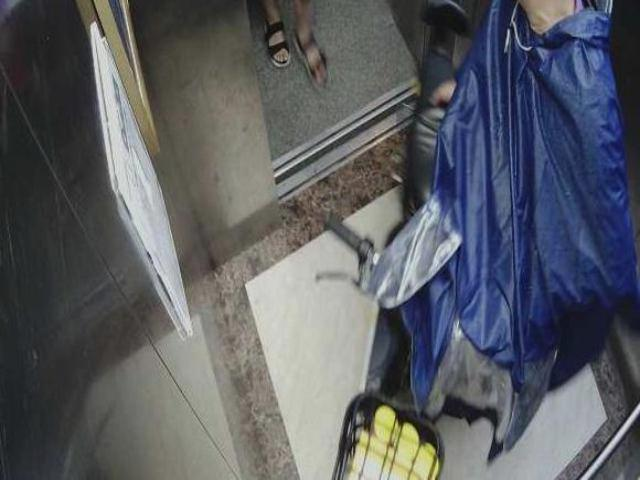emotor: (312, 26, 481, 480)
